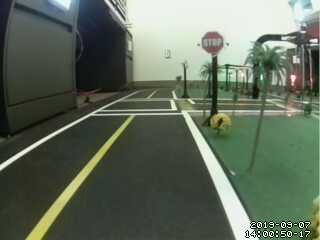Stop_Sign: (194, 26, 236, 64)
